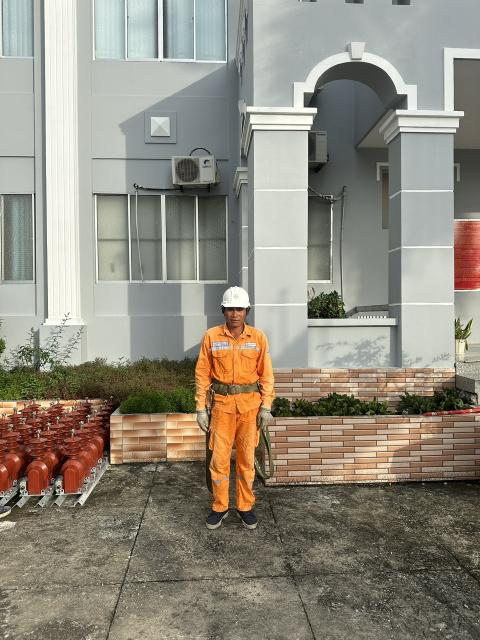gloves: (251, 403, 283, 437), (196, 400, 213, 436)
harness: (205, 376, 281, 403)
helmet: (216, 288, 262, 319)
shoes: (230, 504, 265, 531), (202, 498, 230, 531)
